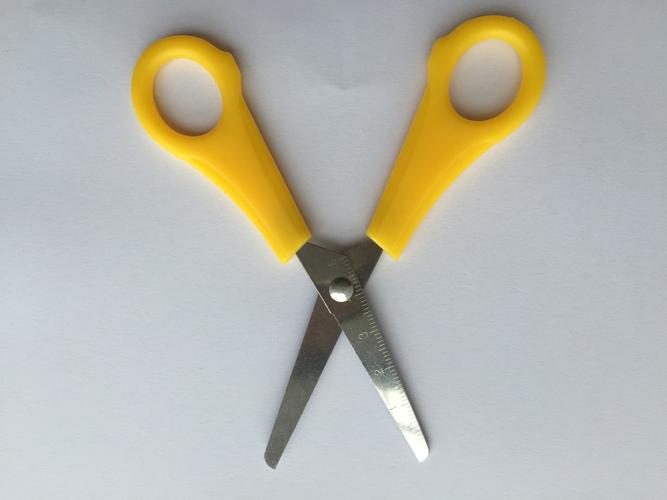scissor: (131, 15, 548, 474)
